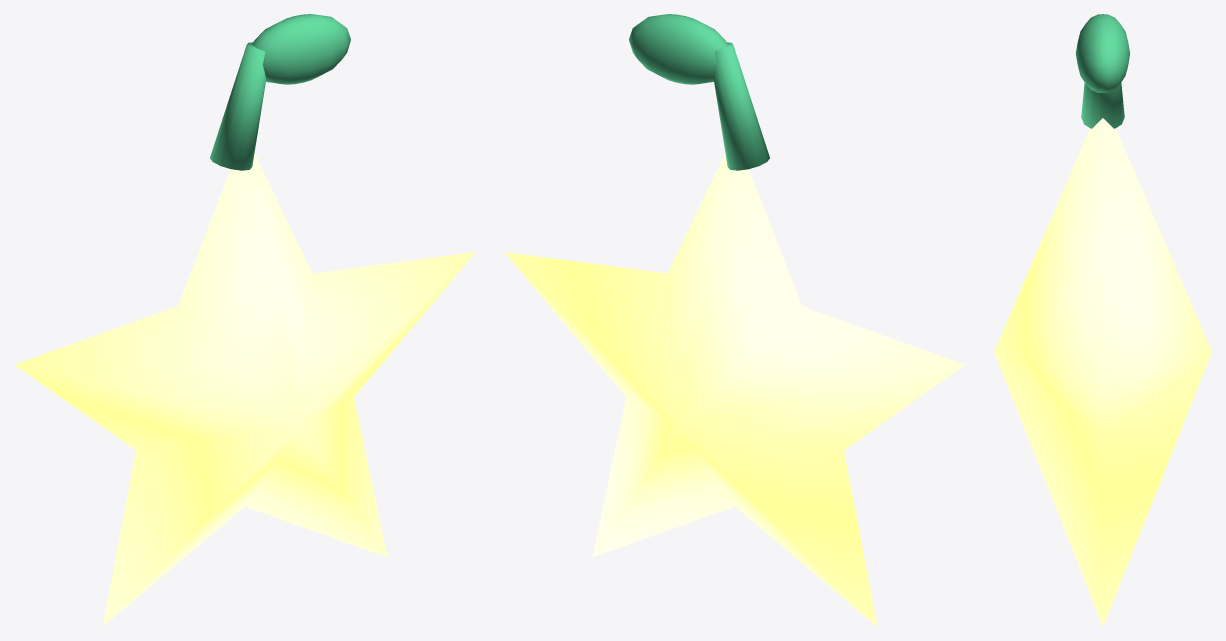
Rendered from StarSeed.fbx.
3 renders of one model, left to right at view 1: azimuth 30°, elevation 25°; view 2: azimuth 150°, elevation 25°; view 3: azimuth 270°, elevation 25°, orthographic.
Visible parts, largest first — view 1: StarSeed; view 2: StarSeed; view 3: StarSeed.
Part boxes in pixels (x1=…): StarSeed: x1=14, y1=14, x2=475, y2=626; StarSeed: x1=504, y1=14, x2=965, y2=626; StarSeed: x1=994, y1=14, x2=1211, y2=626.
Size of the model in its own units: 68.48 by 28 by 79.62.
Materials: 1 (1 with a texture image).
